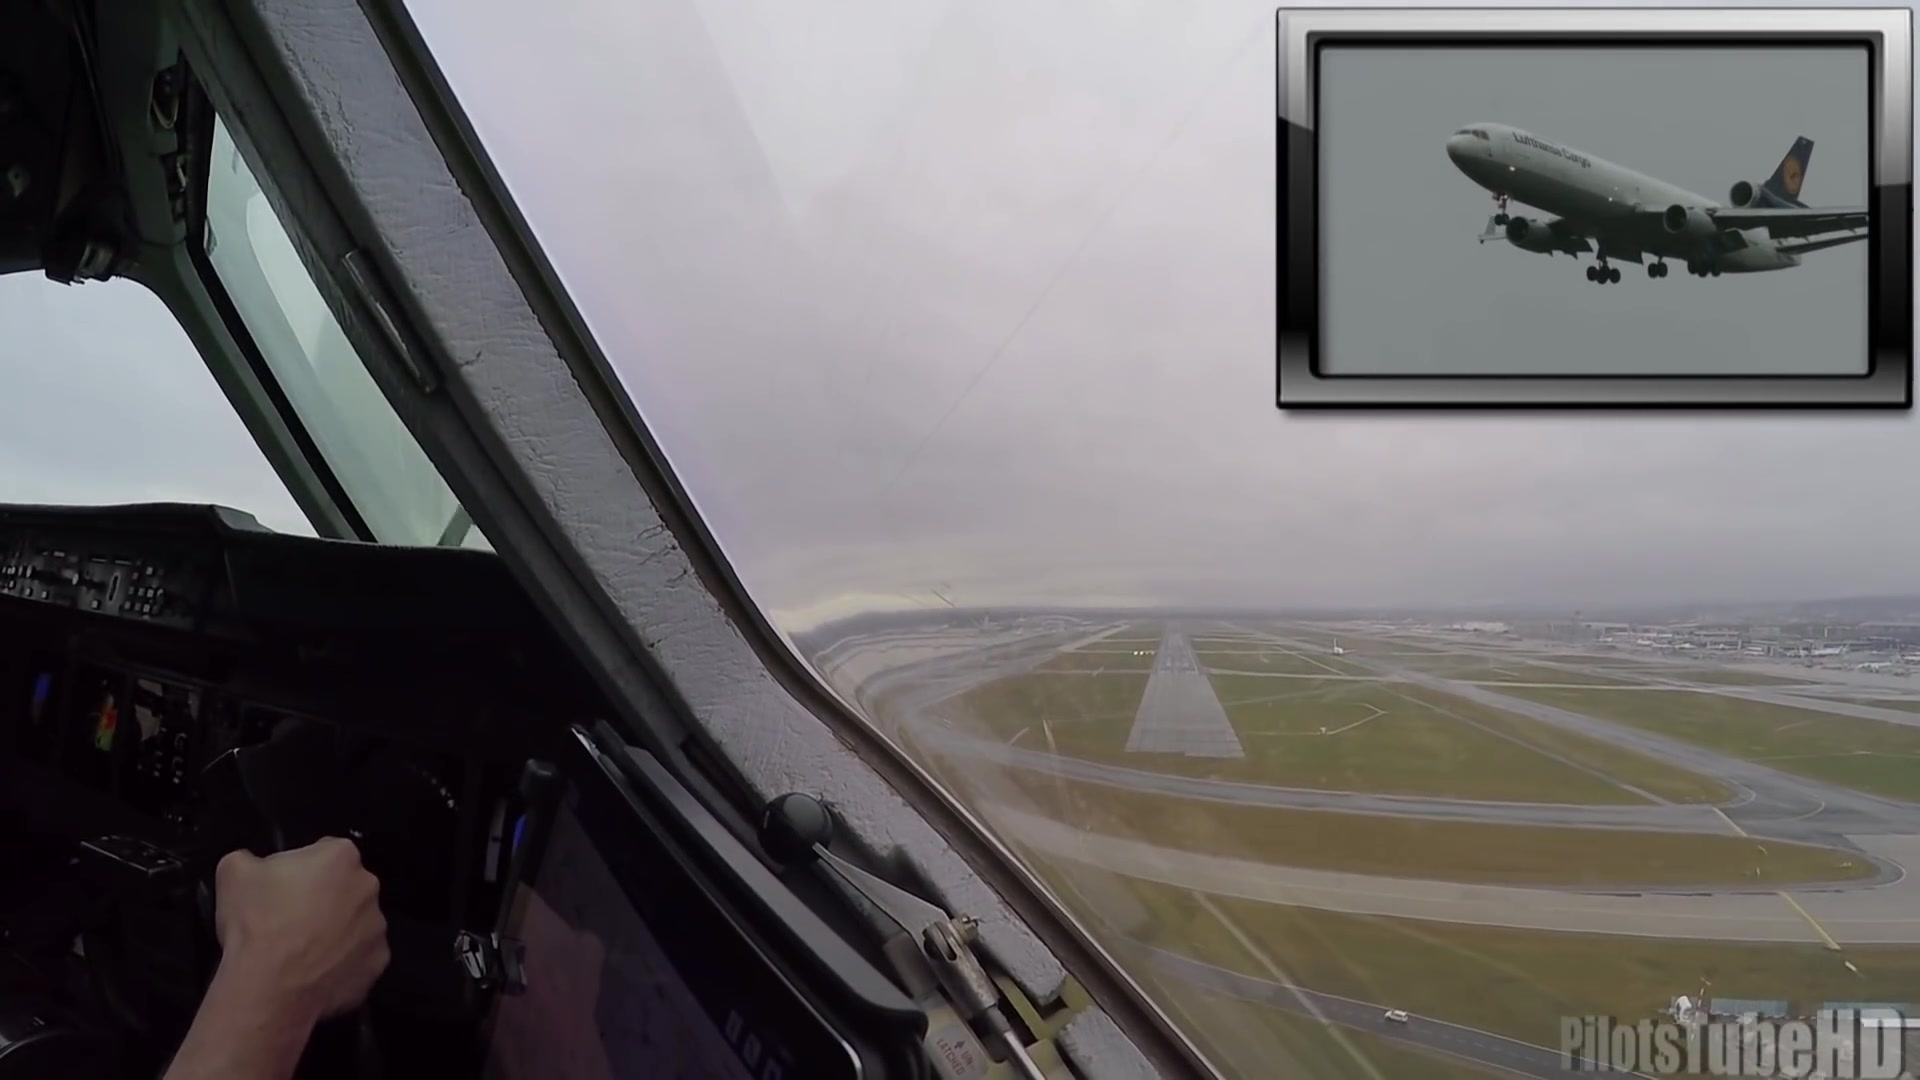runway: (1121, 620, 1238, 757)
